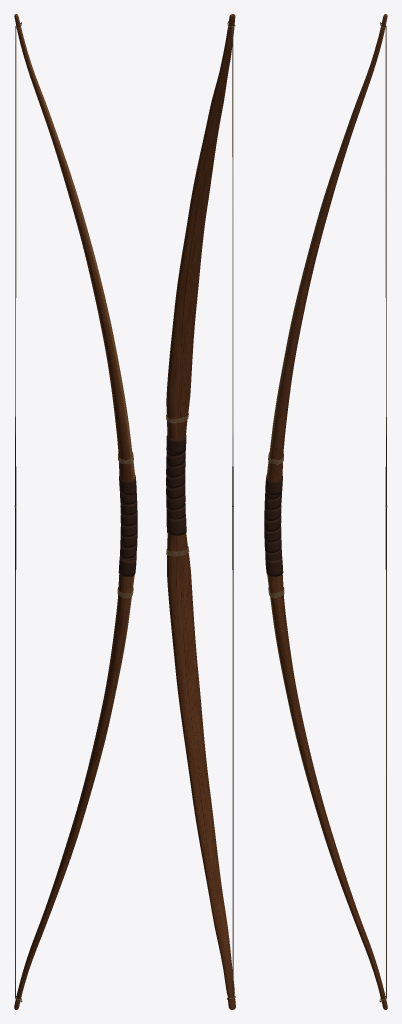
The model's file is Aetheria_T1_WoodenBow.fbx.
The picture shows the model from 3 angles, left to right: view 1: azimuth 90°, elevation 25°; view 2: azimuth 210°, elevation 25°; view 3: azimuth 270°, elevation 25°; orthographic projection.
Visible parts, largest first — view 1: WoodenBow_01_ContinuousStave, WoodenBow_06_Bowstring, WoodenBow_02_LeatherGrip; view 2: WoodenBow_01_ContinuousStave, WoodenBow_06_Bowstring, WoodenBow_02_LeatherGrip, WoodenBow_04_GripFinish_Lower, WoodenBow_03_GripFinish_Upper; view 3: WoodenBow_01_ContinuousStave, WoodenBow_06_Bowstring, WoodenBow_02_LeatherGrip.
Part boxes in pixels (<box>): WoodenBow_01_ContinuousStave: <box>14,14,135,1009</box>; WoodenBow_06_Bowstring: <box>14,22,22,1002</box>; WoodenBow_02_LeatherGrip: <box>120,492,137,560</box>; WoodenBow_01_ContinuousStave: <box>166,14,235,1009</box>; WoodenBow_06_Bowstring: <box>227,21,235,999</box>; WoodenBow_02_LeatherGrip: <box>166,451,185,519</box>; WoodenBow_04_GripFinish_Lower: <box>166,516,186,535</box>; WoodenBow_03_GripFinish_Upper: <box>166,435,186,453</box>; WoodenBow_01_ContinuousStave: <box>266,14,387,1009</box>; WoodenBow_06_Bowstring: <box>379,22,387,1002</box>; WoodenBow_02_LeatherGrip: <box>264,492,281,560</box>.
Bounding box in the file's own units: 0.0389 × 1.64 × 0.1847.
